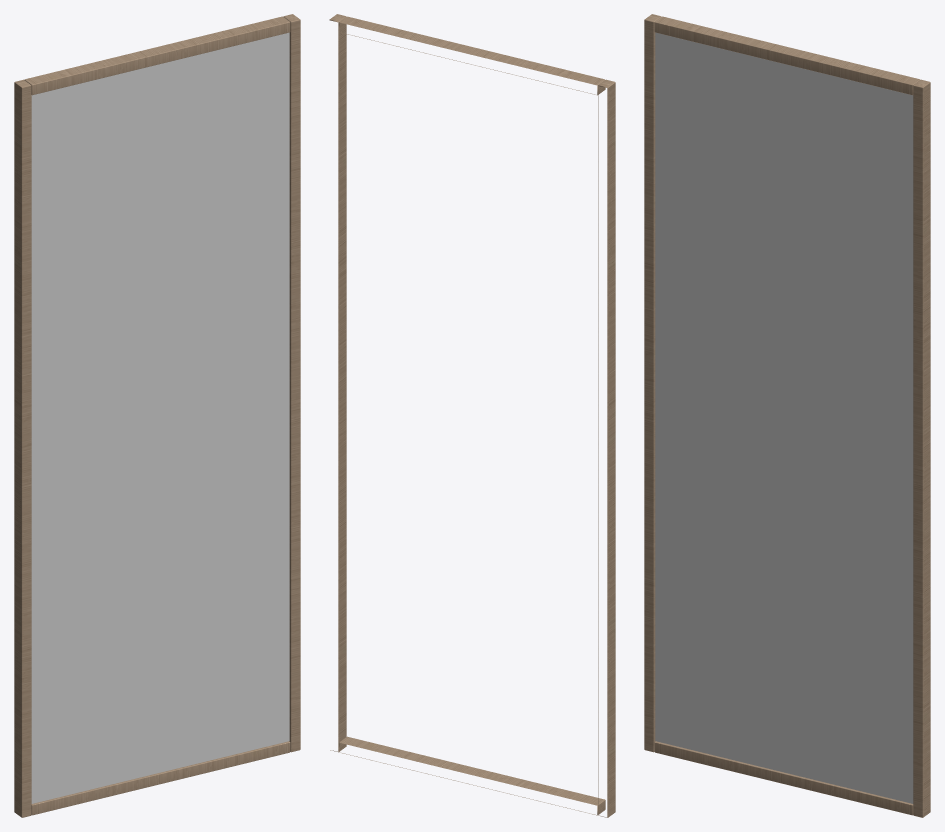
The model's file is mirror.glb.
3 views of the same model, side by side, from view 1: azimuth 30°, elevation 25°; view 2: azimuth 150°, elevation 25°; view 3: azimuth 330°, elevation 25° (orthographic).
Parts seen in each view (by area): view 1: mirror_entre; view 2: mirror_entre; view 3: mirror_entre.
Part boxes in pixels (x1,y1,x2,y2): mirror_entre: [14, 14, 300, 817]; mirror_entre: [329, 14, 615, 817]; mirror_entre: [644, 14, 930, 817].
Bounding box in the file's own units: 0.5999 × 1.5 × 0.03.
Materials: 2 (1 with a texture image).
